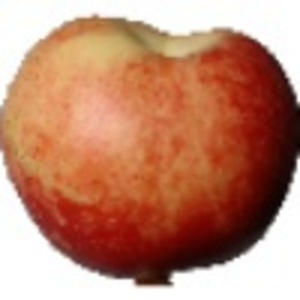nectarina: (1, 12, 300, 290)
